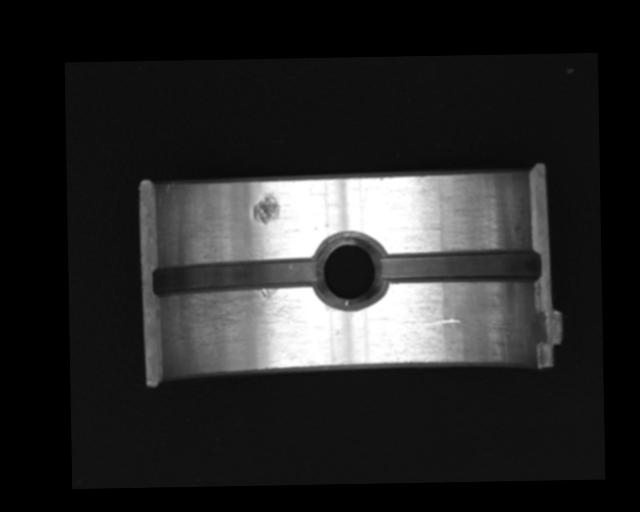bruise: (251, 191, 280, 225)
gap: (152, 256, 322, 298), (377, 248, 541, 287)
hole: (318, 231, 386, 311)
nick: (405, 317, 461, 328)
scratch: (166, 285, 321, 354)
